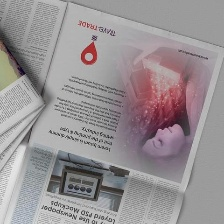news_paper: (0, 0, 224, 223), (0, 31, 48, 179)
